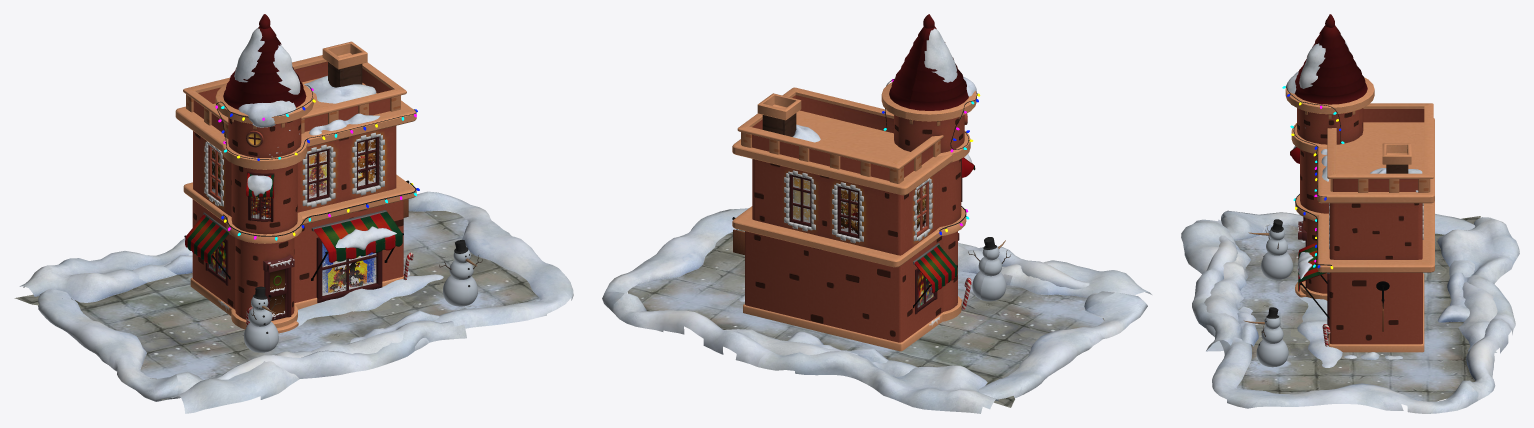
The model's file is christmasHouse.fbx.
3 views of the same model, side by side, from view 1: azimuth 30°, elevation 25°; view 2: azimuth 150°, elevation 25°; view 3: azimuth 270°, elevation 25° (orthographic). The views are drawn at different scales.
Visible parts, largest first — view 1: Mesh_3_Material_3_0, Mesh_1_006_Material_002_0, Mesh_1_005_Material_002_0, Mesh_1_002_Material_1_0, Mesh_1_008_Material_1_0, Mesh_0_004_Material_001_0, Mesh_0_Material_001_0, Mesh_0_003_Material_0_0; view 2: Mesh_3_Material_3_0, Mesh_1_006_Material_002_0, Mesh_1_005_Material_002_0, Mesh_1_002_Material_1_0, Mesh_0_Material_001_0, Mesh_0_003_Material_0_0; view 3: Mesh_3_Material_3_0, Mesh_1_006_Material_002_0, Mesh_1_005_Material_002_0, Mesh_1_008_Material_1_0, Mesh_1_002_Material_1_0, Mesh_0_Material_001_0, Mesh_0_004_Material_001_0, Mesh_0_003_Material_0_0.
Boxes of the visible parts, bbox=[...] form: Mesh_3_Material_3_0: bbox=[175, 14, 416, 333]; Mesh_1_006_Material_002_0: bbox=[19, 191, 573, 413]; Mesh_1_005_Material_002_0: bbox=[14, 211, 540, 400]; Mesh_1_002_Material_1_0: bbox=[234, 28, 396, 250]; Mesh_1_008_Material_1_0: bbox=[296, 270, 443, 326]; Mesh_0_004_Material_001_0: bbox=[439, 240, 482, 306]; Mesh_0_Material_001_0: bbox=[244, 286, 281, 352]; Mesh_0_003_Material_0_0: bbox=[215, 85, 419, 326]; Mesh_3_Material_3_0: bbox=[732, 14, 976, 351]; Mesh_1_006_Material_002_0: bbox=[602, 208, 1151, 413]; Mesh_1_005_Material_002_0: bbox=[628, 229, 1103, 407]; Mesh_1_002_Material_1_0: bbox=[792, 28, 976, 162]; Mesh_0_Material_001_0: bbox=[968, 237, 1010, 301]; Mesh_0_003_Material_0_0: bbox=[882, 78, 980, 309]; Mesh_3_Material_3_0: bbox=[1285, 14, 1434, 352]; Mesh_1_006_Material_002_0: bbox=[1181, 210, 1519, 413]; Mesh_1_005_Material_002_0: bbox=[1235, 216, 1480, 401]; Mesh_1_008_Material_1_0: bbox=[1297, 297, 1402, 367]; Mesh_1_002_Material_1_0: bbox=[1286, 28, 1422, 279]; Mesh_0_Material_001_0: bbox=[1248, 219, 1293, 279]; Mesh_0_004_Material_001_0: bbox=[1244, 307, 1288, 367]; Mesh_0_003_Material_0_0: bbox=[1282, 85, 1344, 346].
Bounding box in the file's own units: 44720 × 30000 × 32554.
5 materials, 5 textured.
